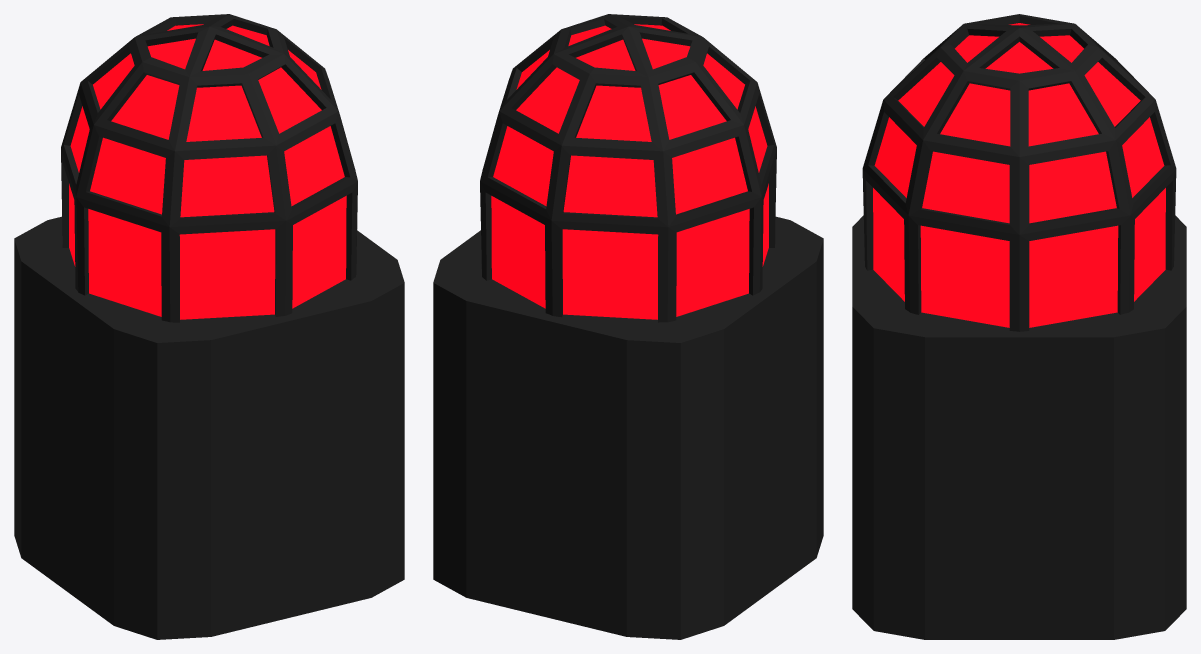
File: Light.fbx
The picture shows the model from 3 angles, left to right: view 1: azimuth 30°, elevation 25°; view 2: azimuth 150°, elevation 25°; view 3: azimuth 270°, elevation 25°; orthographic projection.
Parts seen in each view (by area): view 1: Cube; view 2: Cube; view 3: Cube.
Part boxes in pixels (<box>): Cube: <box>14,14,404,639</box>; Cube: <box>433,14,823,639</box>; Cube: <box>852,14,1186,639</box>.
Bounding box in the file's own units: 30.93 × 55.29 × 30.93.
